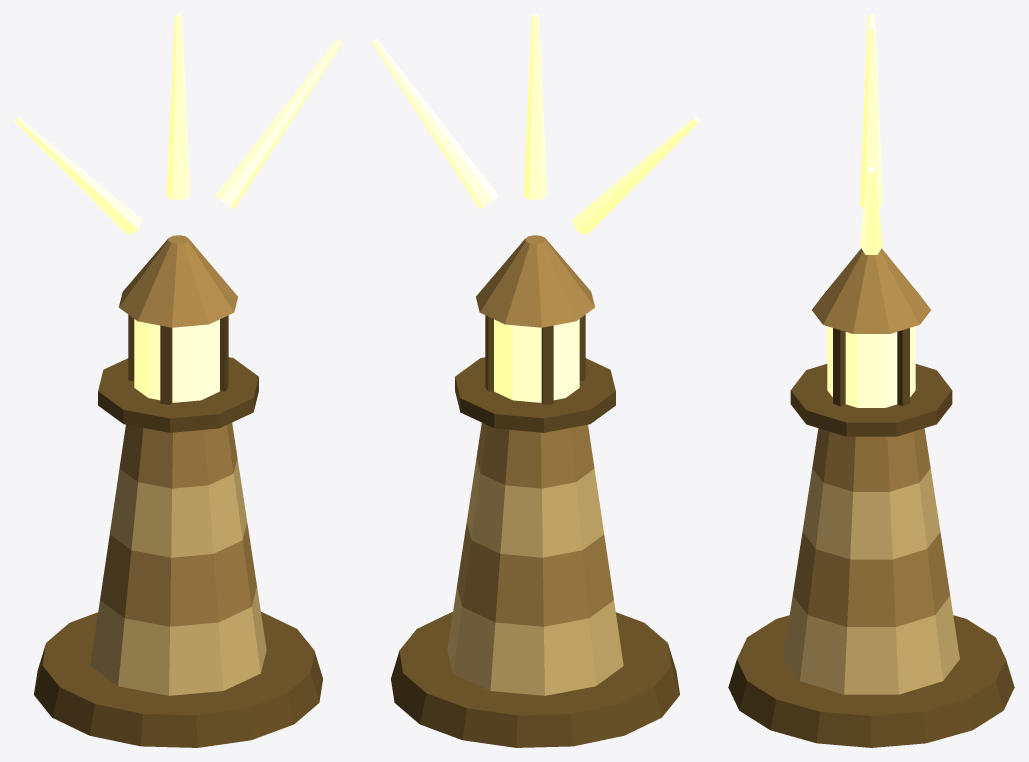
The model's file is farol_mesa.glb.
3 renders of one model, left to right at view 1: azimuth 30°, elevation 25°; view 2: azimuth 150°, elevation 25°; view 3: azimuth 270°, elevation 25°, orthographic.
Visible parts, largest first — view 1: Torre, Raios, Lanterna; view 2: Torre, Raios, Lanterna; view 3: Torre, Lanterna, Raios.
Part boxes in pixels (box(x1,y1,x2,y2)): Torre: box(34, 235, 322, 747); Raios: box(14, 14, 342, 235); Lanterna: box(134, 319, 219, 402); Torre: box(391, 235, 679, 747); Raios: box(371, 14, 699, 235); Lanterna: box(494, 319, 579, 402); Torre: box(728, 248, 1014, 747); Lanterna: box(827, 326, 915, 407); Raios: box(859, 14, 883, 254).
Bounding box in the file's own units: 0.1423 × 0.2793 × 0.11.
